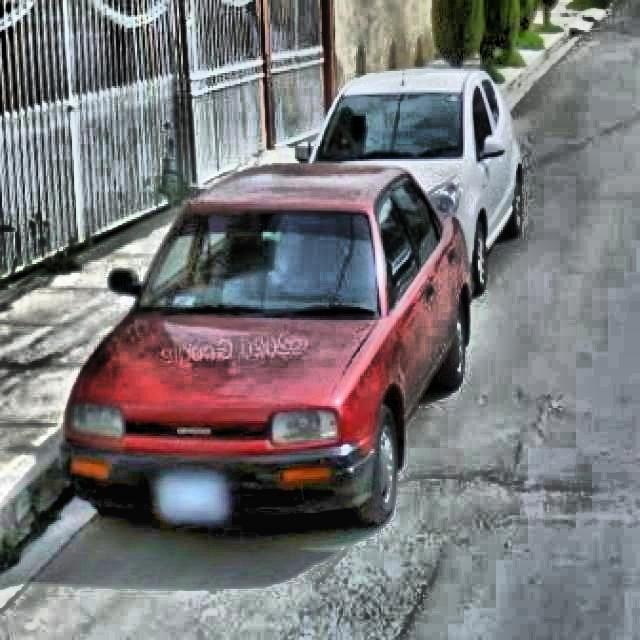carro: (58, 157, 471, 537), (318, 54, 530, 238)
